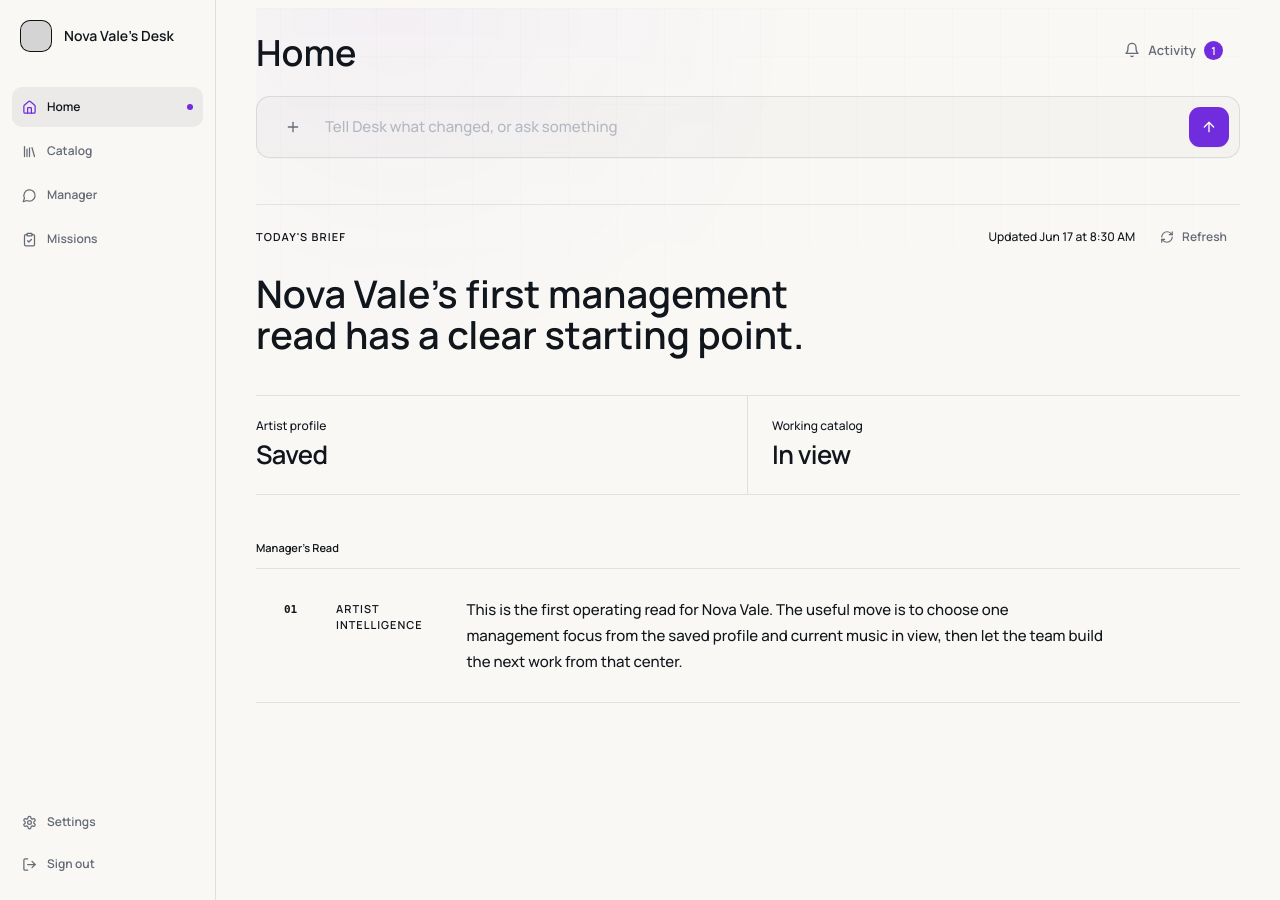
Clean production prototype-match shell › hydrates a completed background Today's Brief without a page reload
Expected: the heading "Home" is shown, x1=256 y1=34 x2=356 y2=72
Click the button with aria-label "Refresh Today's Brief" at x=1194, y=237, box x1=1147 y1=221 x2=1240 y2=253
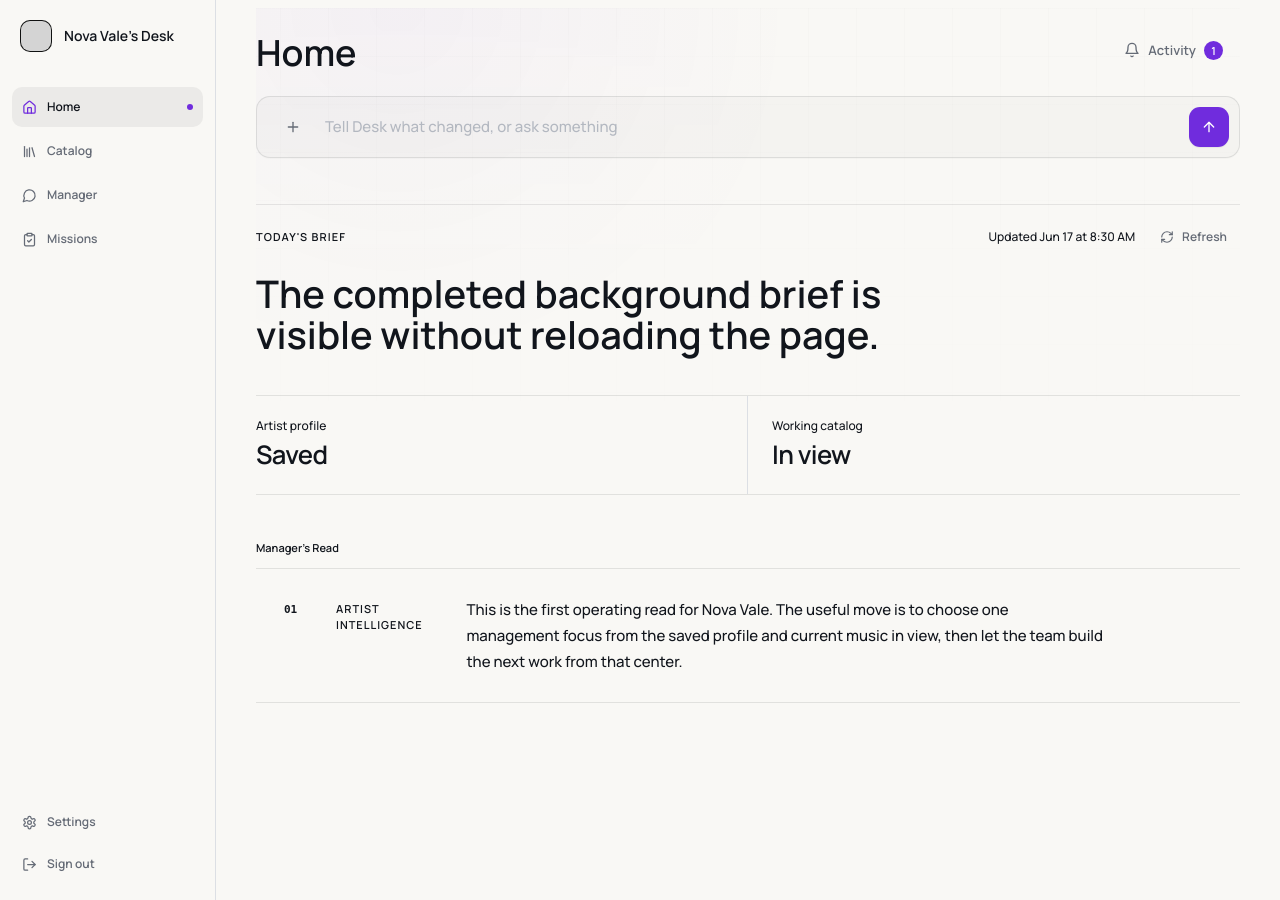
Expected: the text "The completed background brief is visible without reloading the page." is shown, x1=256 y1=273 x2=988 y2=355
